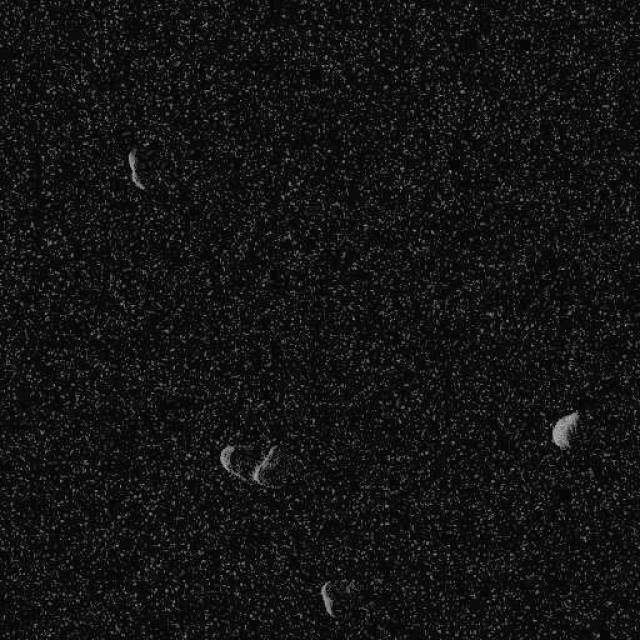D2: (219, 442, 279, 488), (550, 410, 579, 449), (126, 146, 146, 190), (319, 580, 335, 616)
